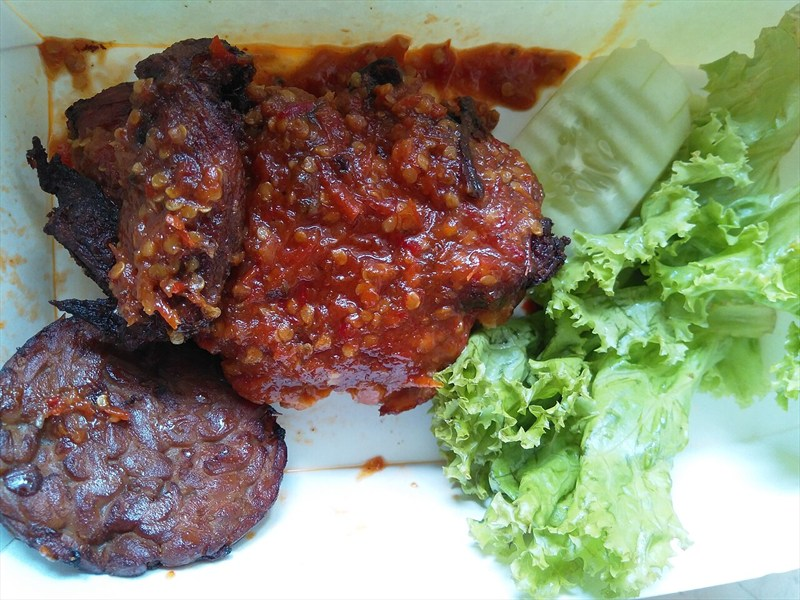Tempe Goreng: (112, 44, 683, 461)
